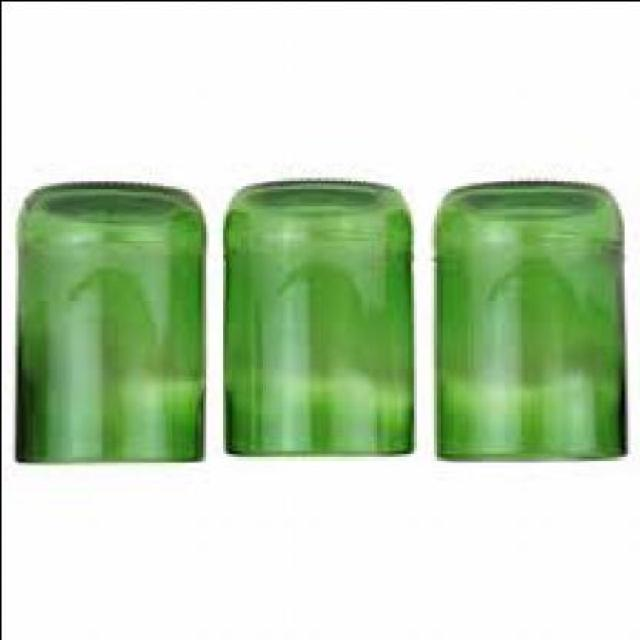GLASS: (436, 182, 626, 464), (222, 182, 416, 458), (20, 185, 208, 466)
